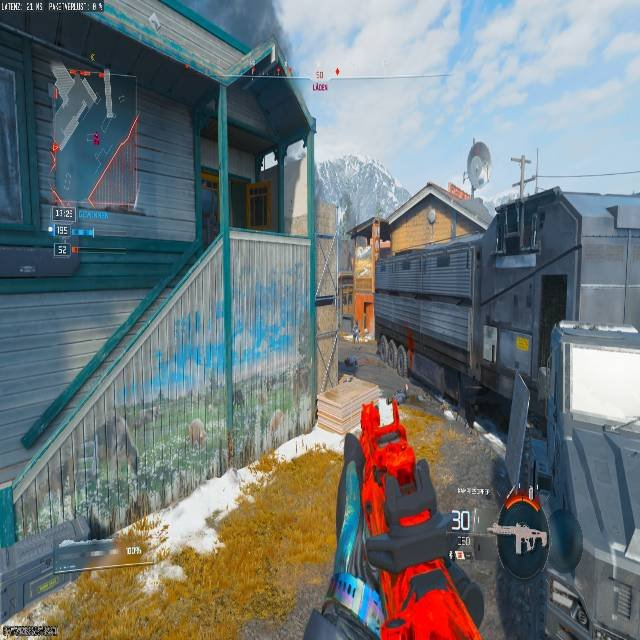player: (352, 323, 359, 342)
